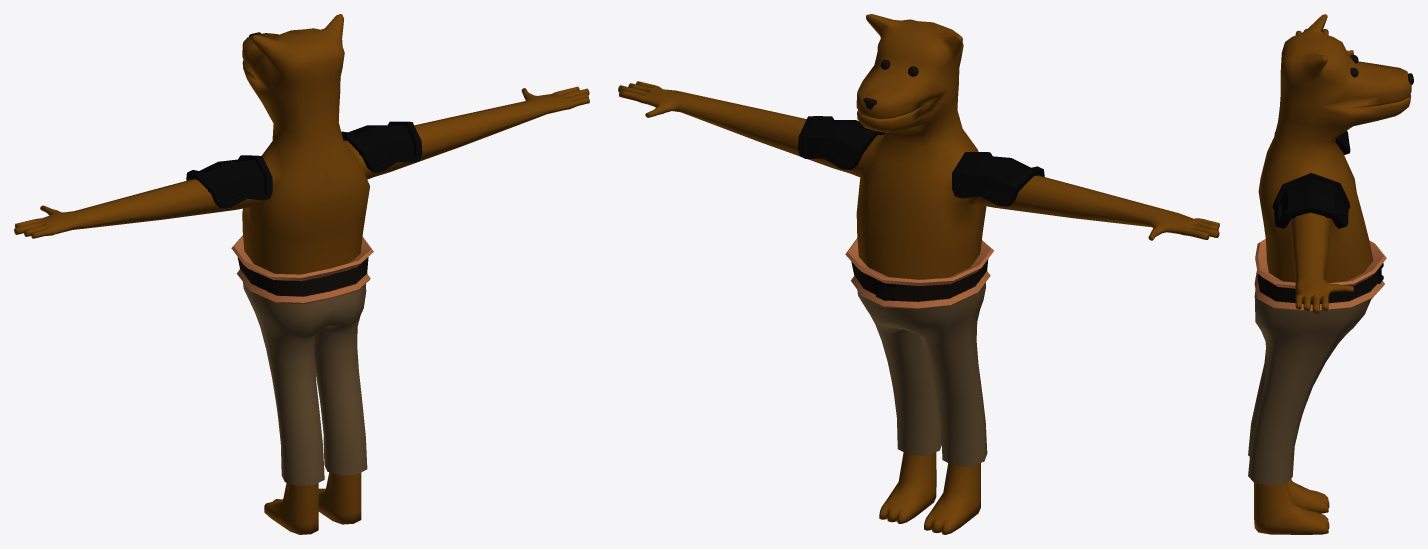
Rendered from mini boss DOG.fbx.
3 renders of one model, left to right at view 1: azimuth 30°, elevation 25°; view 2: azimuth 150°, elevation 25°; view 3: azimuth 270°, elevation 25°, orthographic. The views are drawn at different scales.
Parts seen in each view (by area): view 1: Cube; view 2: Cube; view 3: Cube.
Boxes of the visible parts, <box> form: Cube: <box>14,14,589,534</box>; Cube: <box>618,14,1219,534</box>; Cube: <box>1248,14,1413,534</box>.
Size of the model in its own units: 1340 by 1072 by 334.
1 material, 1 textured.
